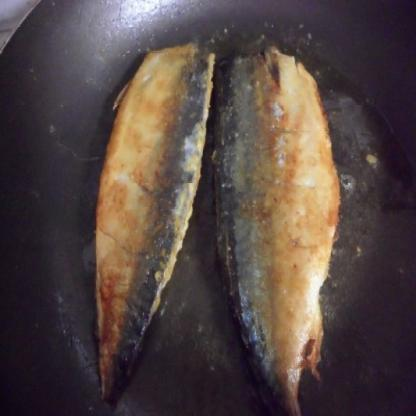Peixe: (76, 22, 227, 416), (209, 35, 347, 409)
